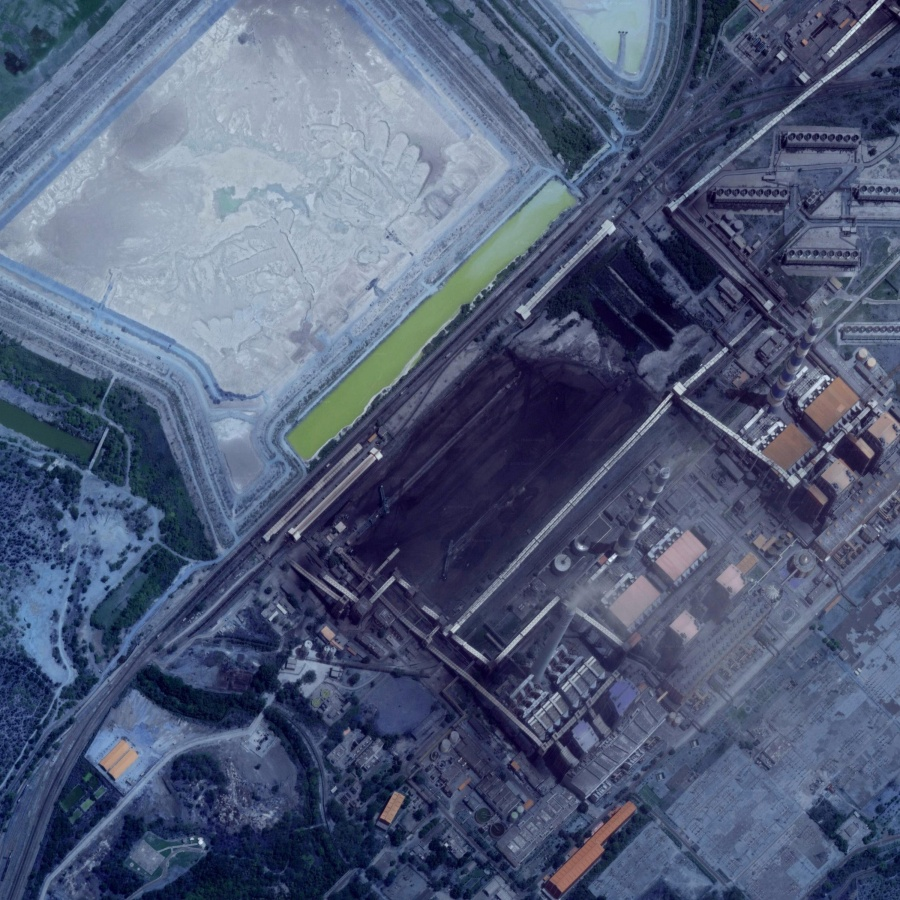PowerPlant: (275, 183, 800, 690)
